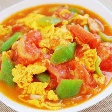fanqiechaojidan: (1, 4, 112, 109)
